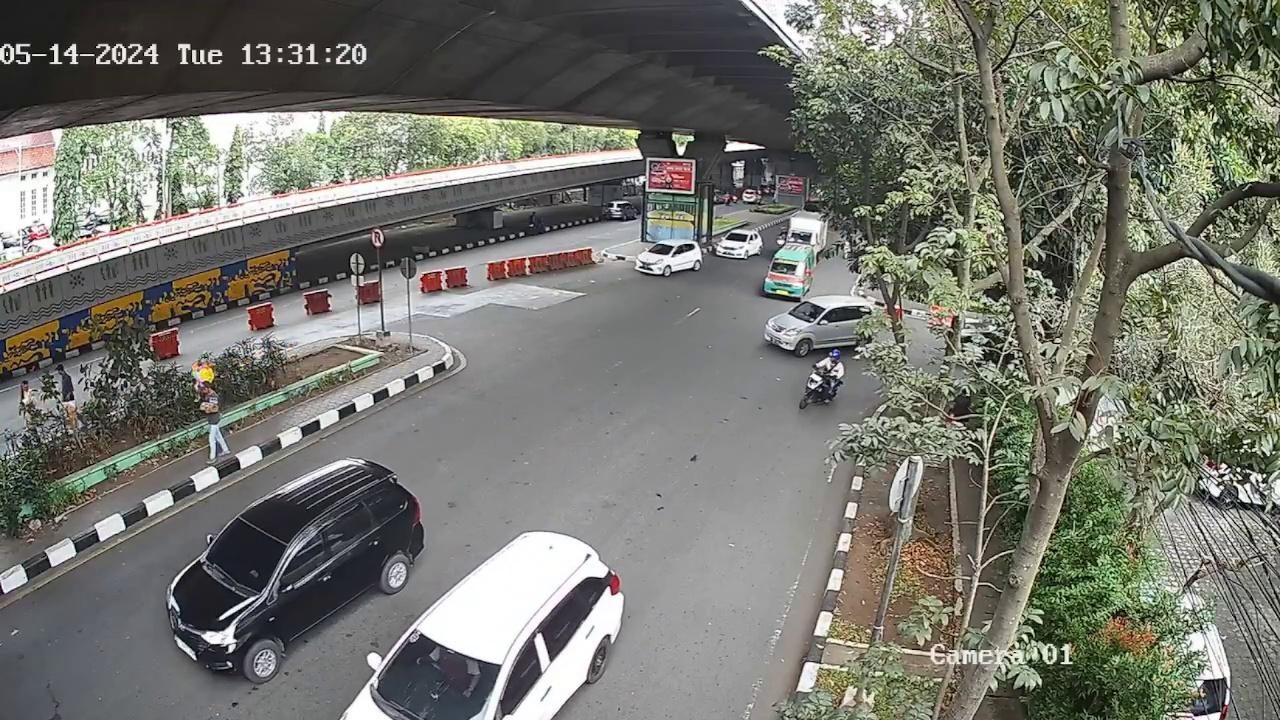tidak-pakai: (426, 652, 473, 689)
windshield: (374, 640, 491, 720), (208, 517, 291, 597)
